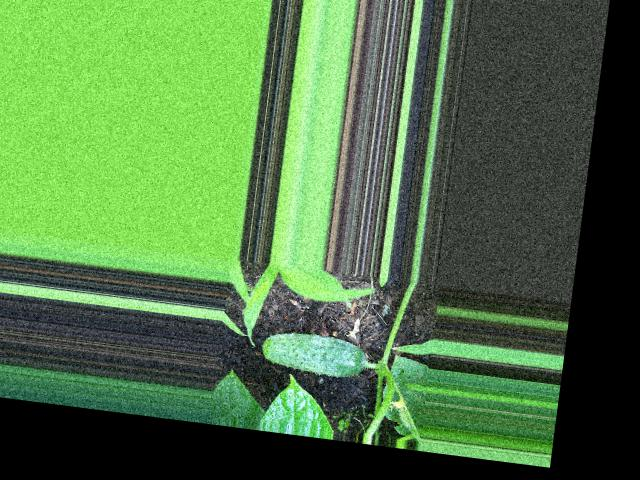cucumber: (258, 327, 368, 379)
